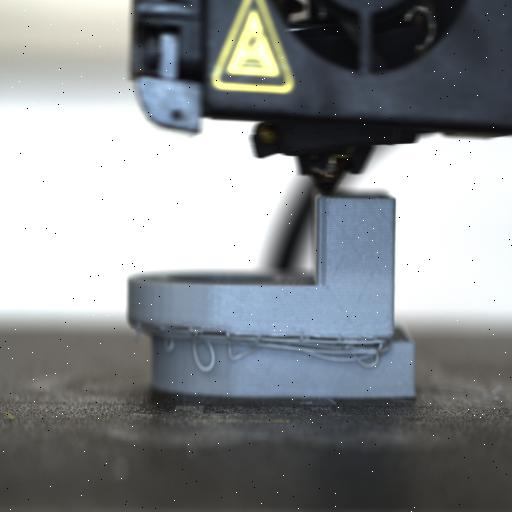layer_shift: (126, 321, 416, 347)
